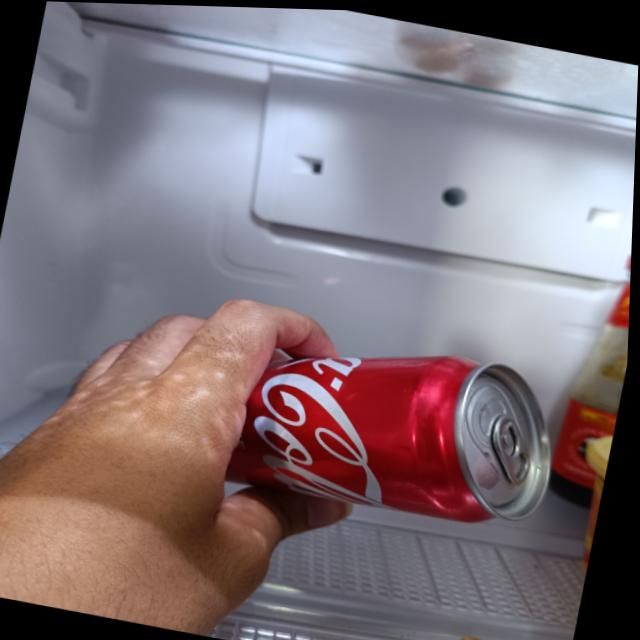coke: (149, 302, 573, 533)
